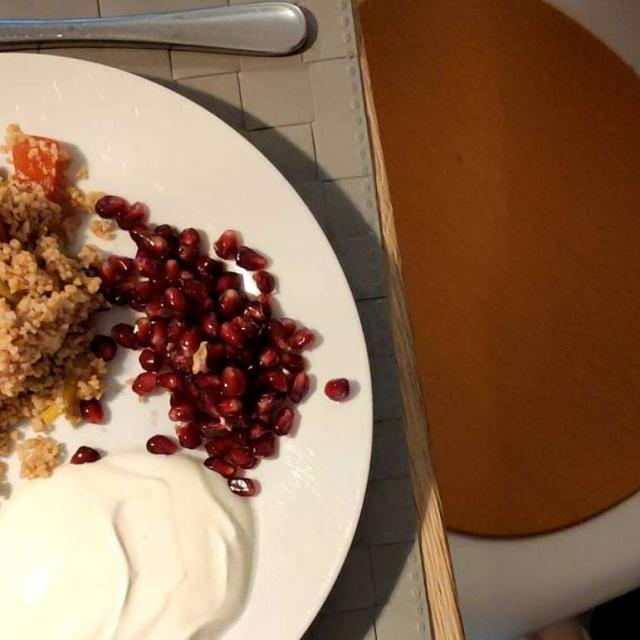pomegranate: (102, 206, 309, 480)
taboule-prepared-with-couscous: (3, 137, 118, 470)
yogurt: (1, 440, 254, 638), (6, 448, 248, 637)
